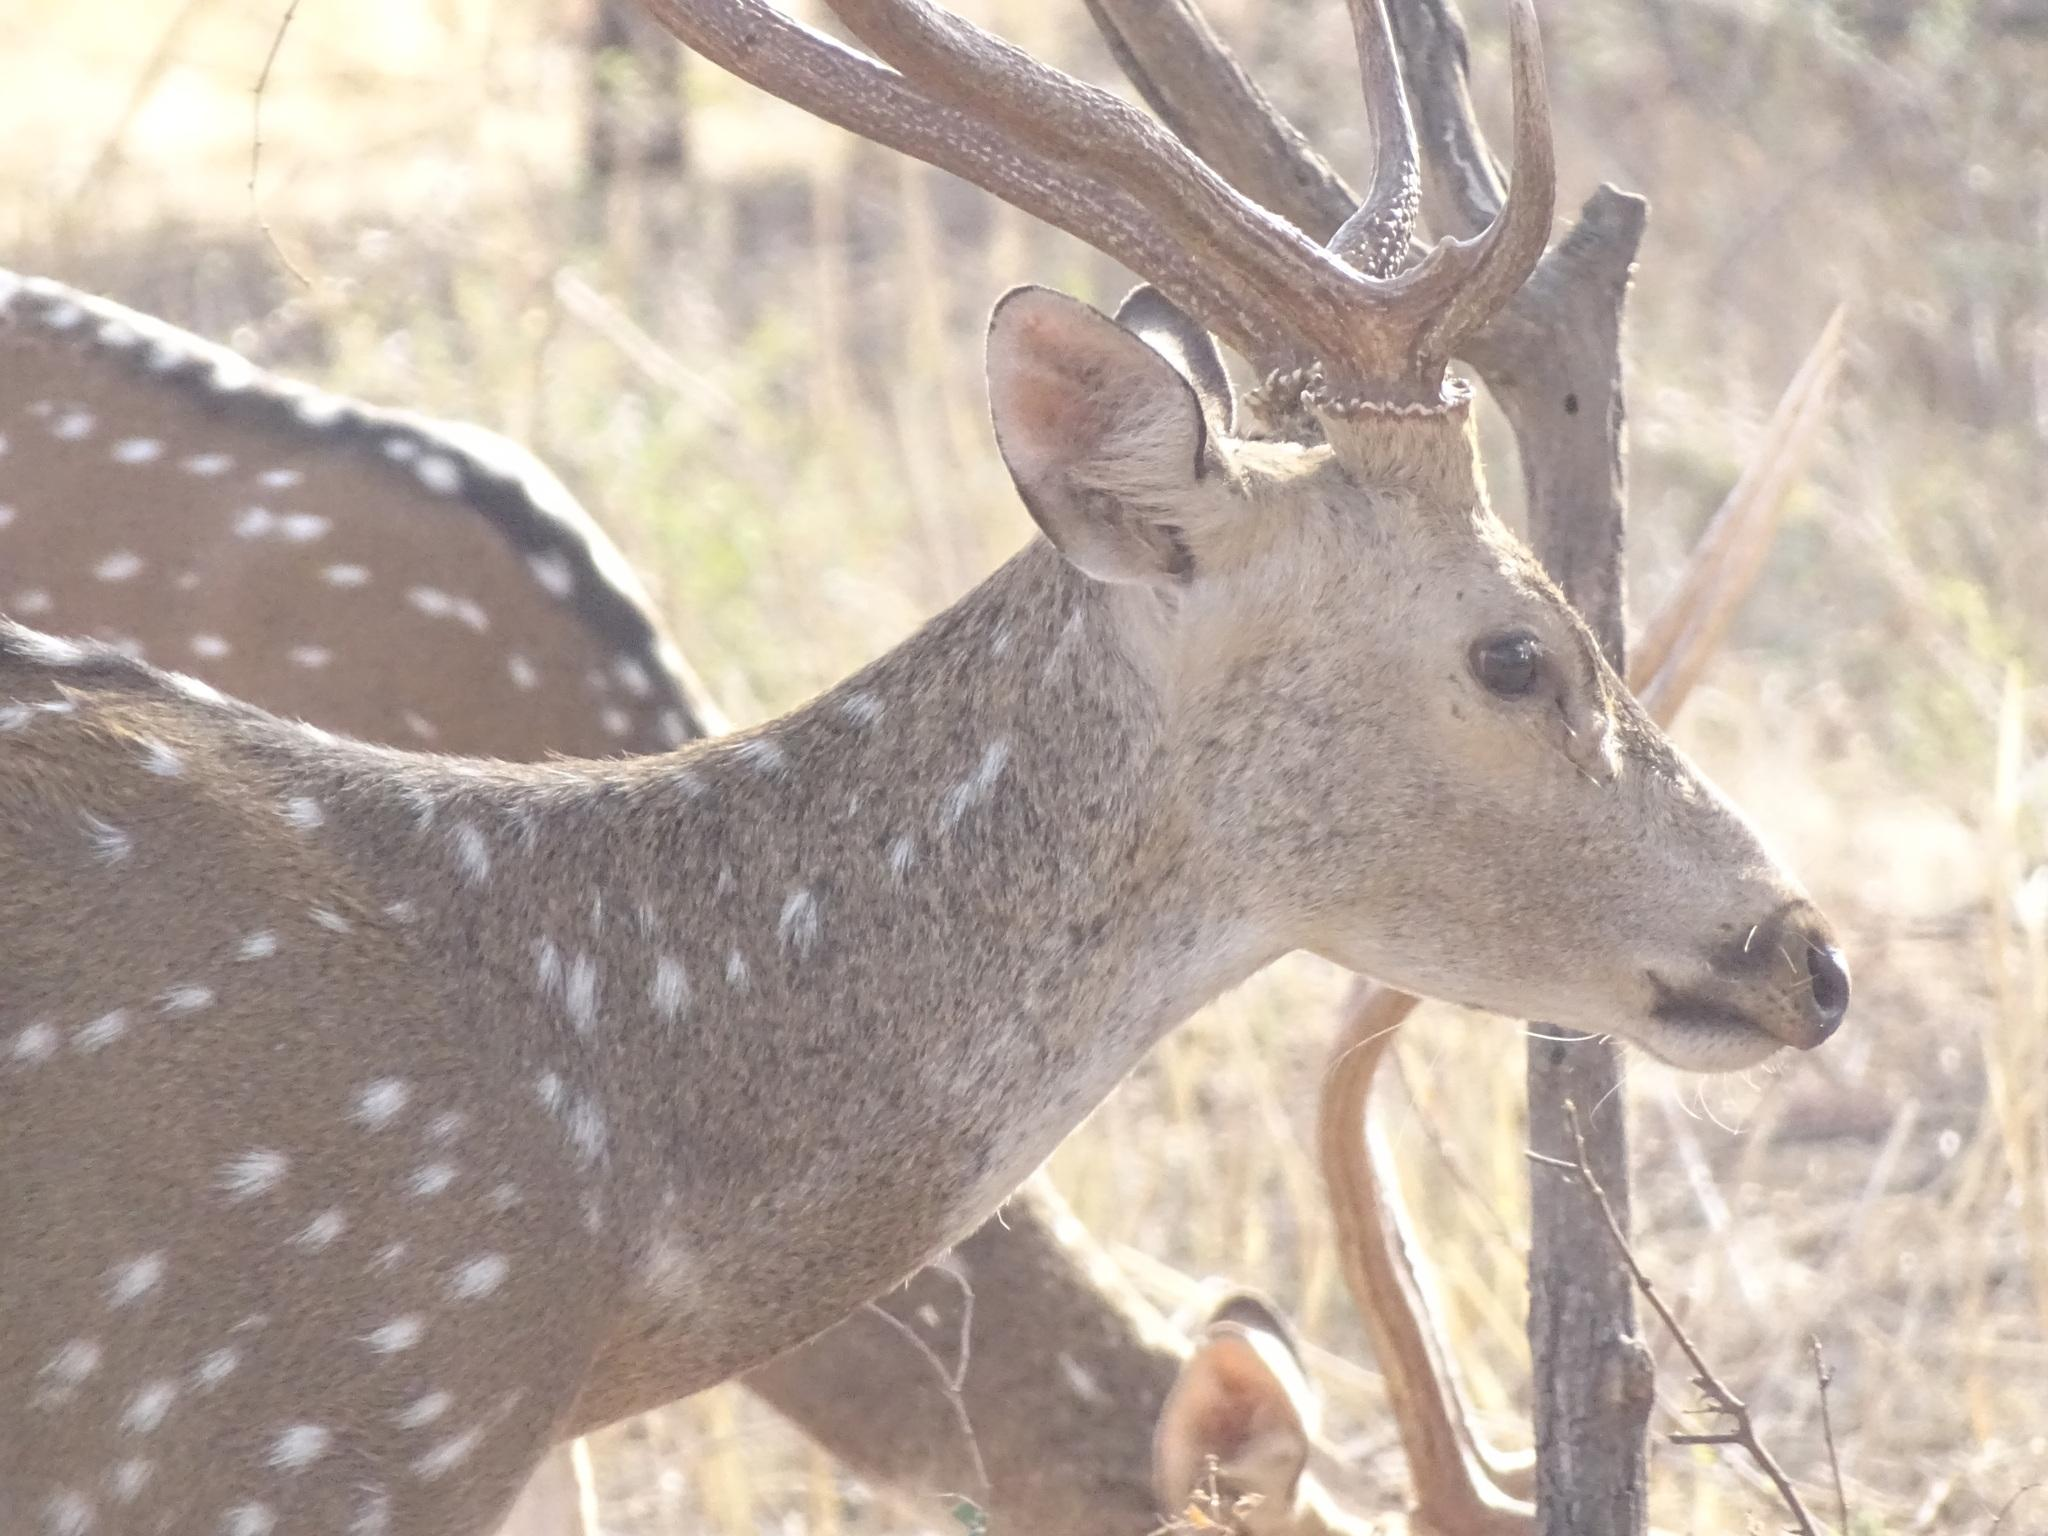Deer: (0, 290, 1846, 1534), (742, 1194, 1359, 1534)
